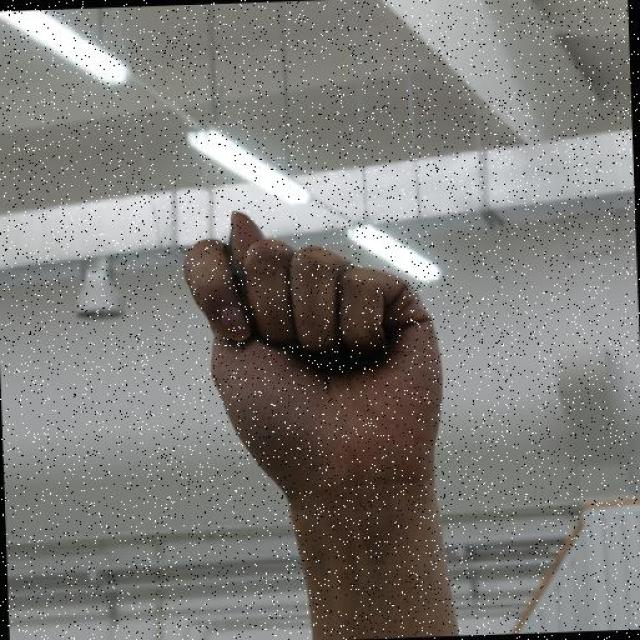T: (175, 197, 455, 498)
